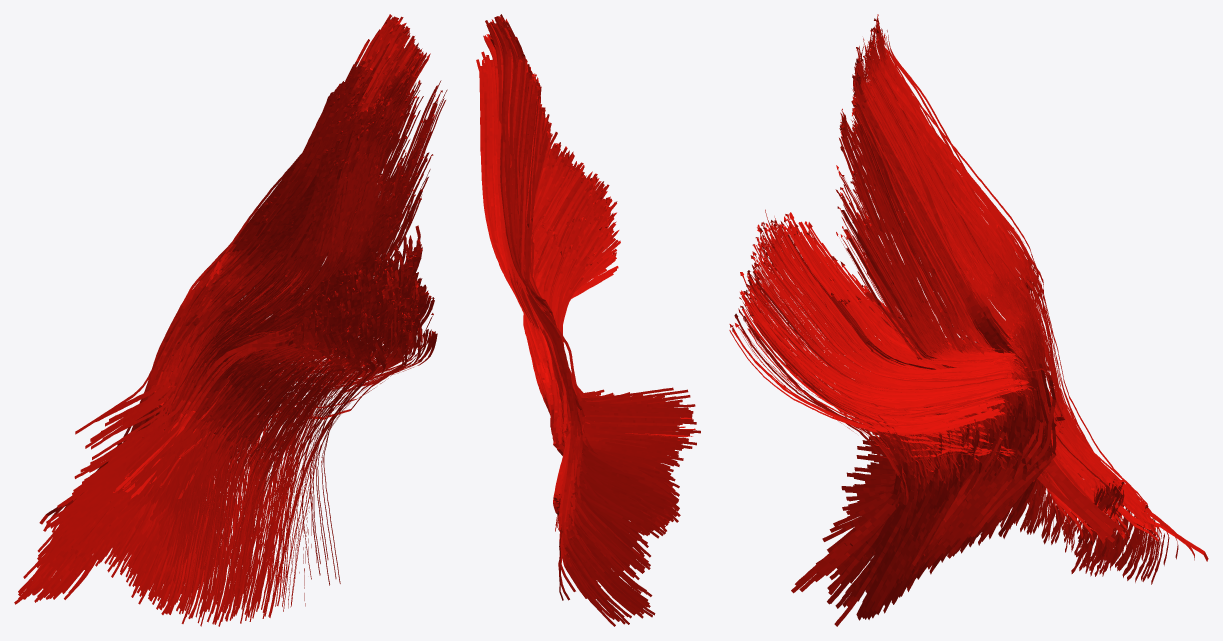
The model's file is L_VOF.glb.
3 renders of one model, left to right at view 1: azimuth 30°, elevation 25°; view 2: azimuth 150°, elevation 25°; view 3: azimuth 270°, elevation 25°, orthographic. The views are drawn at different scales.
Visible parts, largest first — view 1: tracts; view 2: tracts; view 3: tracts.
Boxes of the visible parts, x1,y1,x2,y2 form: tracts: [14, 14, 447, 626]; tracts: [476, 14, 700, 626]; tracts: [729, 14, 1208, 626].
Size of the model in its own units: 32.7 by 57.54 by 34.73.
